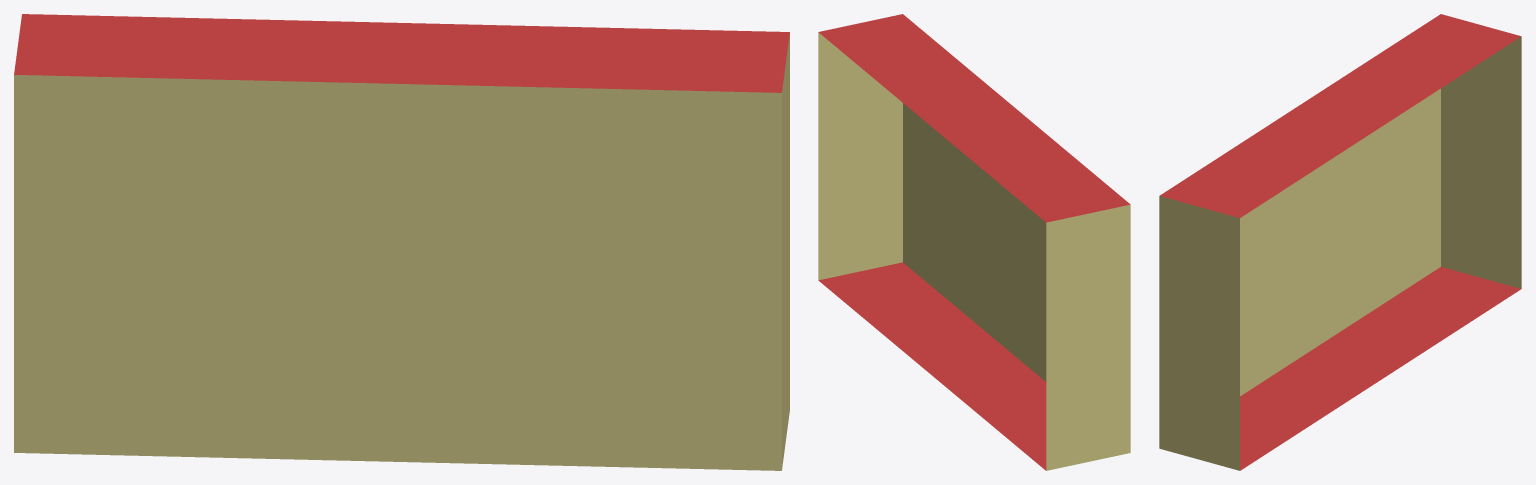
The picture shows the model from 3 angles, left to right: view 1: azimuth 30°, elevation 25°; view 2: azimuth 150°, elevation 25°; view 3: azimuth 270°, elevation 25°; orthographic projection. The views are drawn at different scales.
Visible parts, largest first — view 1: group_4, group_3; view 2: group_4, group_3, group_5; view 3: group_4, group_3, group_5.
Boxes of the visible parts, x1,y1,x2,y2 form: group_4: [14, 33, 789, 470]; group_3: [14, 14, 789, 92]; group_4: [818, 32, 1130, 470]; group_3: [818, 14, 1130, 222]; group_5: [818, 262, 1046, 470]; group_4: [1159, 36, 1521, 470]; group_3: [1159, 14, 1520, 217]; group_5: [1240, 267, 1521, 470].
Size of the model in its own units: 11.44 by 8.58 by 6.6.
